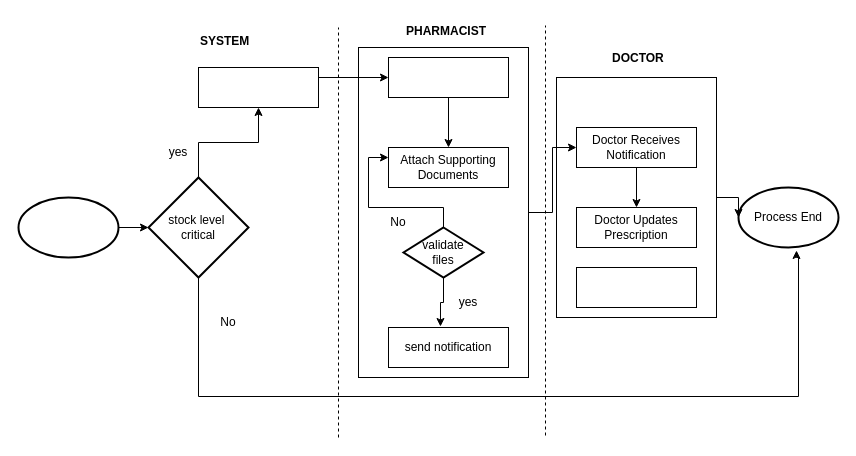
Image size: 856x456. Some labels were removed from this diagram. Here are the shapes that lost their labels. From the top down, the centre of each, then its label:
At (258,87): "Alert Pharmacist".
At (448,77): "Prepare Notification".
At (68,227): "Drug Stock Change".
At (636,287): "Doctor Acknowledges receipt".
